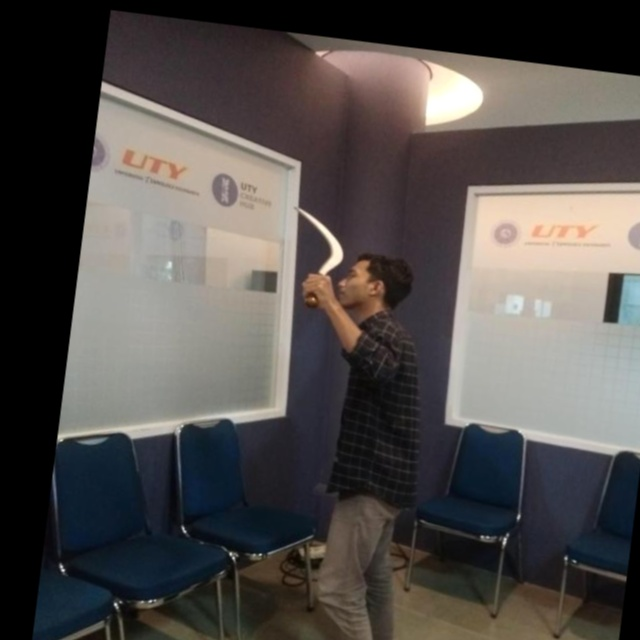Sharp-Object: (284, 202, 354, 303)
